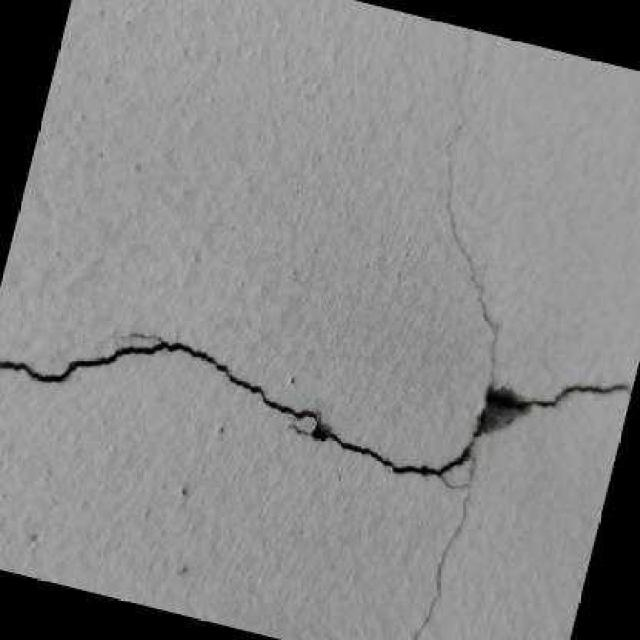D00: (0, 130, 633, 640), (453, 27, 470, 144)
